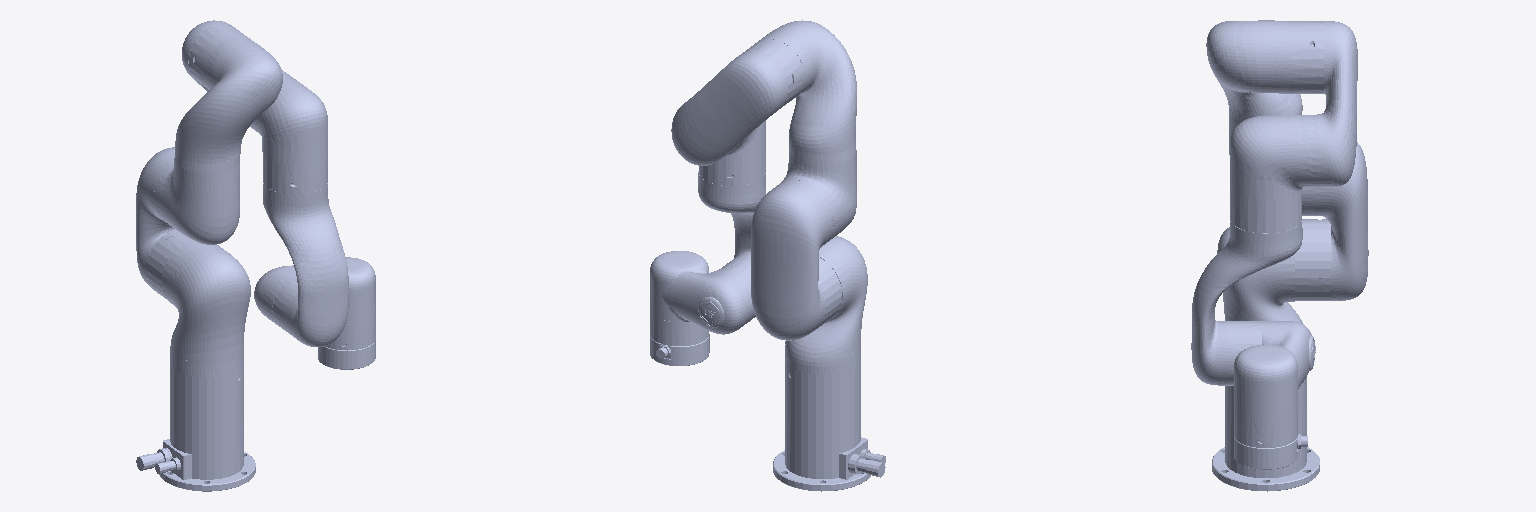
robot.urdf — xArm6:
<?xml version="1.0" encoding="utf-8"?>
<!-- This URDF was automatically created by SolidWorks to URDF Exporter! Originally created by [author] ([email redacted]) 
     Commit Version: 1.6.0-4-g7f85cfe  Build Version: 1.6.7995.38578
     For more information, please see http://wiki.ros.org/sw_urdf_exporter -->
<robot
  name="xArm6">
  <link
    name="base">
    <inertial>
      <origin
        xyz="-0.0014979 9.0552E-05 0.073474"
        rpy="0 0 0" />
      <mass
        value="1.1698" />
      <inertia
        ixx="0.0031725"
        ixy="7.4999E-06"
        ixz="-8.1095E-05"
        iyy="0.0032736"
        iyz="4.911E-06"
        izz="0.0015021" />
    </inertial>
    <visual>
      <origin
        xyz="0 0 0"
        rpy="0 0 0" />
      <geometry>
        <mesh
          filename="package://xArm6/meshes/base.STL" />
      </geometry>
      <material
        name="">
        <color
          rgba="0.79216 0.81961 0.93333 1" />
      </material>
    </visual>
    <collision>
      <origin
        xyz="0 0 0"
        rpy="0 0 0" />
      <geometry>
        <mesh
          filename="package://xArm6/meshes/base.STL" />
      </geometry>
    </collision>
  </link>
  <link
    name="link1">
    <inertial>
      <origin
        xyz="0.00011811 0.0074136 0.085089"
        rpy="0 0 0" />
      <mass
        value="1.3256" />
      <inertia
        ixx="0.0039077"
        ixy="-5.4138E-07"
        ixz="-5.9077E-06"
        iyy="0.0032369"
        iyz="-0.00041284"
        izz="0.0021922" />
    </inertial>
    <visual>
      <origin
        xyz="0 0 0"
        rpy="0 0 0" />
      <geometry>
        <mesh
          filename="package://xArm6/meshes/link1.STL" />
      </geometry>
      <material
        name="">
        <color
          rgba="0.79216 0.81961 0.93333 1" />
      </material>
    </visual>
    <collision>
      <origin
        xyz="0 0 0"
        rpy="0 0 0" />
      <geometry>
        <mesh
          filename="package://xArm6/meshes/link1.STL" />
      </geometry>
    </collision>
  </link>
  <joint
    name="joint1"
    type="revolute">
    <origin
      xyz="0 0 0.1548"
      rpy="0 0 0" />
    <parent
      link="base" />
    <child
      link="link1" />
    <axis
      xyz="0 0 1" />
    <limit
      lower="-3.14"
      upper="3.14"
      effort="30"
      velocity="3.15" />
  </joint>
  <link
    name="link2">
    <inertial>
      <origin
        xyz="0.013529 -0.16507 -0.048714"
        rpy="0 0 0" />
      <mass
        value="2.6935" />
      <inertia
        ixx="0.015114"
        ixy="0.0028282"
        ixz="-0.00014159"
        iyy="0.0043522"
        iyz="-0.00072817"
        izz="0.015671" />
    </inertial>
    <visual>
      <origin
        xyz="0 0 0"
        rpy="0 0 0" />
      <geometry>
        <mesh
          filename="package://xArm6/meshes/link2.STL" />
      </geometry>
      <material
        name="">
        <color
          rgba="0.79216 0.81961 0.93333 1" />
      </material>
    </visual>
    <collision>
      <origin
        xyz="0 0 0"
        rpy="0 0 0" />
      <geometry>
        <mesh
          filename="package://xArm6/meshes/link2.STL" />
      </geometry>
    </collision>
  </link>
  <joint
    name="joint2"
    type="revolute">
    <origin
      xyz="0 0.075316 0.112"
      rpy="-1.5708 0 0.003749" />
    <parent
      link="link1" />
    <child
      link="link2" />
    <axis
      xyz="0 0 1" />
    <limit
      lower="-3.14"
      upper="3.14"
      effort="30"
      velocity="3.15" />
  </joint>
  <link
    name="link3">
    <inertial>
      <origin
        xyz="0.063386 0.081496 -0.029861"
        rpy="0 0 0" />
      <mass
        value="1.3025" />
      <inertia
        ixx="0.0052822"
        ixy="-0.0012908"
        ixz="0.00090165"
        iyy="0.0038842"
        iyz="0.0016205"
        izz="0.0044896" />
    </inertial>
    <visual>
      <origin
        xyz="0 0 0"
        rpy="0 0 0" />
      <geometry>
        <mesh
          filename="package://xArm6/meshes/link3.STL" />
      </geometry>
      <material
        name="">
        <color
          rgba="0.79216 0.81961 0.93333 1" />
      </material>
    </visual>
    <collision>
      <origin
        xyz="0 0 0"
        rpy="0 0 0" />
      <geometry>
        <mesh
          filename="package://xArm6/meshes/link3.STL" />
      </geometry>
    </collision>
  </link>
  <joint
    name="joint3"
    type="revolute">
    <origin
      xyz="0.053313 -0.28455 -0.0083026"
      rpy="0 0 0" />
    <parent
      link="link2" />
    <child
      link="link3" />
    <axis
      xyz="0 0 1" />
    <limit
      lower="-3.14"
      upper="3.14"
      effort="30"
      velocity="3.15" />
  </joint>
  <link
    name="link4">
    <inertial>
      <origin
        xyz="0.00010439 0.032497 0.10205"
        rpy="0 0 0" />
      <mass
        value="0.78957" />
      <inertia
        ixx="0.0043745"
        ixy="1.9891E-06"
        ixz="-7.3514E-07"
        iyy="0.0039417"
        iyz="-0.00089191"
        izz="0.0010384" />
    </inertial>
    <visual>
      <origin
        xyz="0 0 0"
        rpy="0 0 0" />
      <geometry>
        <mesh
          filename="package://xArm6/meshes/link4.STL" />
      </geometry>
      <material
        name="">
        <color
          rgba="0.79216 0.81961 0.93333 1" />
      </material>
    </visual>
    <collision>
      <origin
        xyz="0 0 0"
        rpy="0 0 0" />
      <geometry>
        <mesh
          filename="package://xArm6/meshes/link4.STL" />
      </geometry>
    </collision>
  </link>
  <joint
    name="joint4"
    type="revolute">
    <origin
      xyz="0.077763 0.16919 -0.067495"
      rpy="-1.5708 0.003749 0" />
    <parent
      link="link3" />
    <child
      link="link4" />
    <axis
      xyz="0 0 1" />
    <limit
      lower="-3.14"
      upper="3.14"
      effort="30"
      velocity="3.15" />
  </joint>
  <link
    name="link5">
    <inertial>
      <origin
        xyz="0.048928 0.011131 0.013355"
        rpy="0 0 0" />
      <mass
        value="0.72305" />
      <inertia
        ixx="0.00084167"
        ixy="-0.00021771"
        ixz="0.00027647"
        iyy="0.0014545"
        iyz="7.2752E-05"
        izz="0.0016684" />
    </inertial>
    <visual>
      <origin
        xyz="0 0 0"
        rpy="0 0 0" />
      <geometry>
        <mesh
          filename="package://xArm6/meshes/link5.STL" />
      </geometry>
      <material
        name="">
        <color
          rgba="0.79216 0.81961 0.93333 1" />
      </material>
    </visual>
    <collision>
      <origin
        xyz="0 0 0"
        rpy="0 0 0" />
      <geometry>
        <mesh
          filename="package://xArm6/meshes/link5.STL" />
      </geometry>
    </collision>
  </link>
  <joint
    name="joint5"
    type="revolute">
    <origin
      xyz="0.0001665 0.0048221 0.173"
      rpy="1.5708 0 -0.003749" />
    <parent
      link="link4" />
    <child
      link="link5" />
    <axis
      xyz="0 0 1" />
    <limit
      lower="-3.14"
      upper="3.14"
      effort="30"
      velocity="3.15" />
  </joint>
  <link
    name="tool">
    <inertial>
      <origin
        xyz="-4.1625E-06 -0.0011103 0.013115"
        rpy="0 0 0" />
      <mass
        value="0.11879" />
      <inertia
        ixx="4.8608E-05"
        ixy="1.383E-09"
        ixz="-3.0099E-10"
        iyy="4.8977E-05"
        iyz="-8.0285E-08"
        izz="8.3202E-05" />
    </inertial>
    <visual>
      <origin
        xyz="0 0 0"
        rpy="0 0 0" />
      <geometry>
        <mesh
          filename="package://xArm6/meshes/link6.STL" />
      </geometry>
      <material
        name="">
        <color
          rgba="0.79216 0.81961 0.93333 1" />
      </material>
    </visual>
    <collision>
      <origin
        xyz="0 0 0"
        rpy="0 0 0" />
      <geometry>
        <mesh
          filename="package://xArm6/meshes/link6.STL" />
      </geometry>
    </collision>
  </link>
  <joint
    name="joint6"
    type="revolute">
    <origin
      xyz="0.075994 0.068523 0.0043389"
      rpy="-1.5708 0.003749 0" />
    <parent
      link="link5" />
    <child
      link="tool" />
    <axis
      xyz="0 0 1" />
    <limit
      lower="-3.14"
      upper="3.14"
      effort="30"
      velocity="3.15" />
  </joint>
 
</robot>

--- Facts derived from the render (not from the file) ---
The picture shows the robot from 3 angles, left to right: view 1: azimuth 30°, elevation 25°; view 2: azimuth 150°, elevation 25°; view 3: azimuth 270°, elevation 25°; orthographic projection.
Model xArm6 with 7 links and 6 joints (6 revolute), rooted at base, posed all joints at 0.
Links seen in each view (by area): view 1: link2, link1, base, link4, link3, link5, tool; view 2: link2, link3, base, link5, link1, link4, tool; view 3: link2, link3, link5, link4, link1, base, tool.
Link boxes in pixels (box(x1,y1,x2,y2)): link2: box(136, 25, 282, 290); link1: box(146, 229, 250, 377); base: box(136, 364, 255, 491); link4: box(263, 183, 348, 346); link3: box(182, 20, 327, 193); link5: box(254, 257, 375, 350); tool: box(318, 340, 375, 369); link2: box(743, 20, 856, 340); link3: box(671, 51, 788, 185); base: box(773, 361, 885, 491); link5: box(650, 251, 755, 345); link1: box(785, 236, 867, 374); link4: box(698, 171, 765, 317); tool: box(650, 334, 709, 365); link2: box(1206, 20, 1368, 300); link3: box(1230, 21, 1357, 232); link5: box(1234, 321, 1315, 447); link4: box(1191, 221, 1302, 385); link1: box(1217, 219, 1330, 323); base: box(1212, 377, 1319, 491); tool: box(1234, 434, 1307, 469).
Size in the robot's own frame: 0.3373 by 0.2053 by 0.5941 metres.
Meshes: 7 distinct files referenced, 7 mesh visuals loaded (7 binary STL).